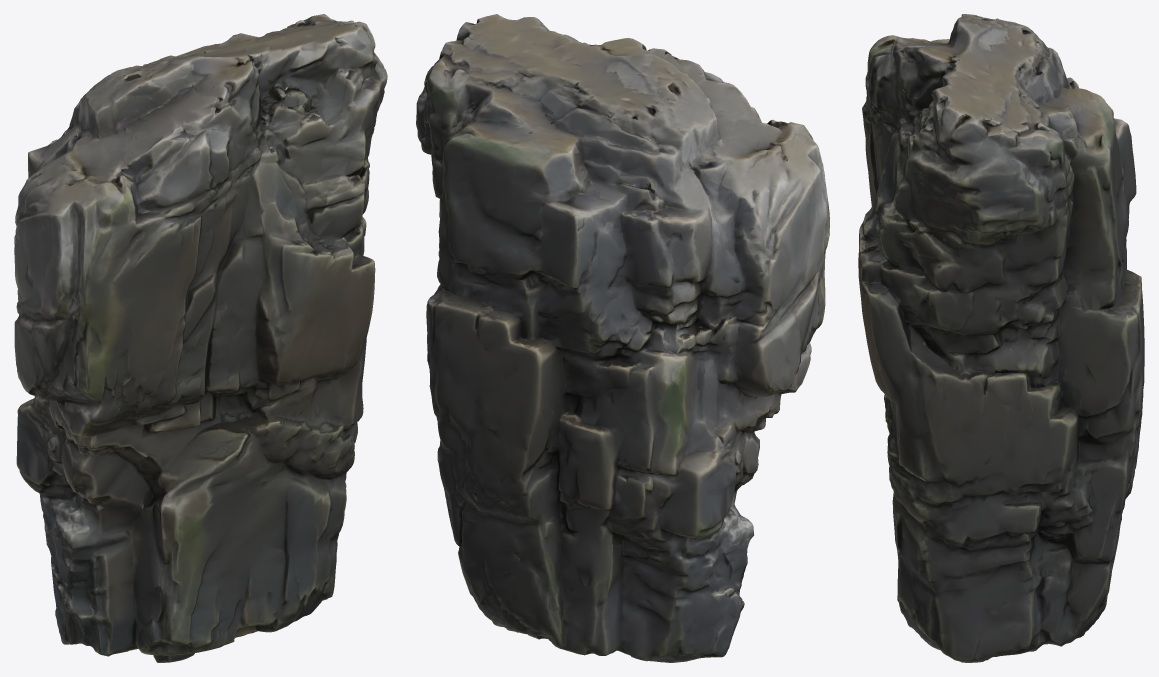
Rendered from Stone.glb.
The picture shows the model from 3 angles, left to right: view 1: azimuth 30°, elevation 25°; view 2: azimuth 150°, elevation 25°; view 3: azimuth 270°, elevation 25°; orthographic projection. The views are drawn at different scales.
Visible parts, largest first — view 1: Stone; view 2: Stone; view 3: Stone.
Boxes of the visible parts, <box> form: Stone: <box>14,14,387,662</box>; Stone: <box>416,14,829,662</box>; Stone: <box>858,14,1144,662</box>.
Bounding box in the file's own units: 1.19 × 1.9 × 0.8196.
1 material, 1 textured.
